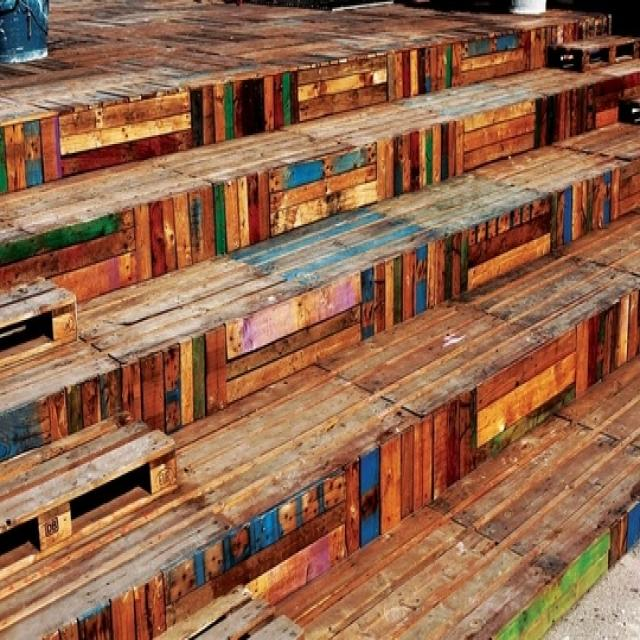Palette: (0, 402, 182, 576), (0, 268, 89, 376), (557, 31, 640, 68)
